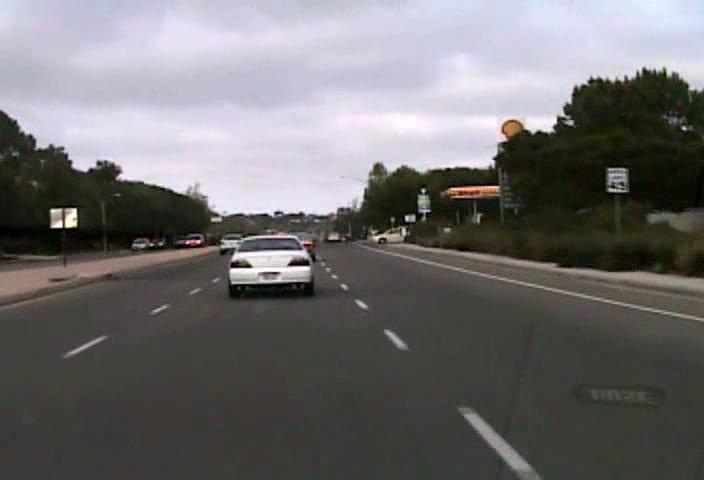speedLimit45: (606, 166, 629, 193)
